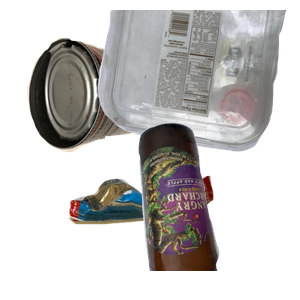glass: (136, 120, 300, 300)
metal: (25, 35, 189, 180)
plastic: (95, 10, 300, 154)
trash: (66, 173, 272, 300)
